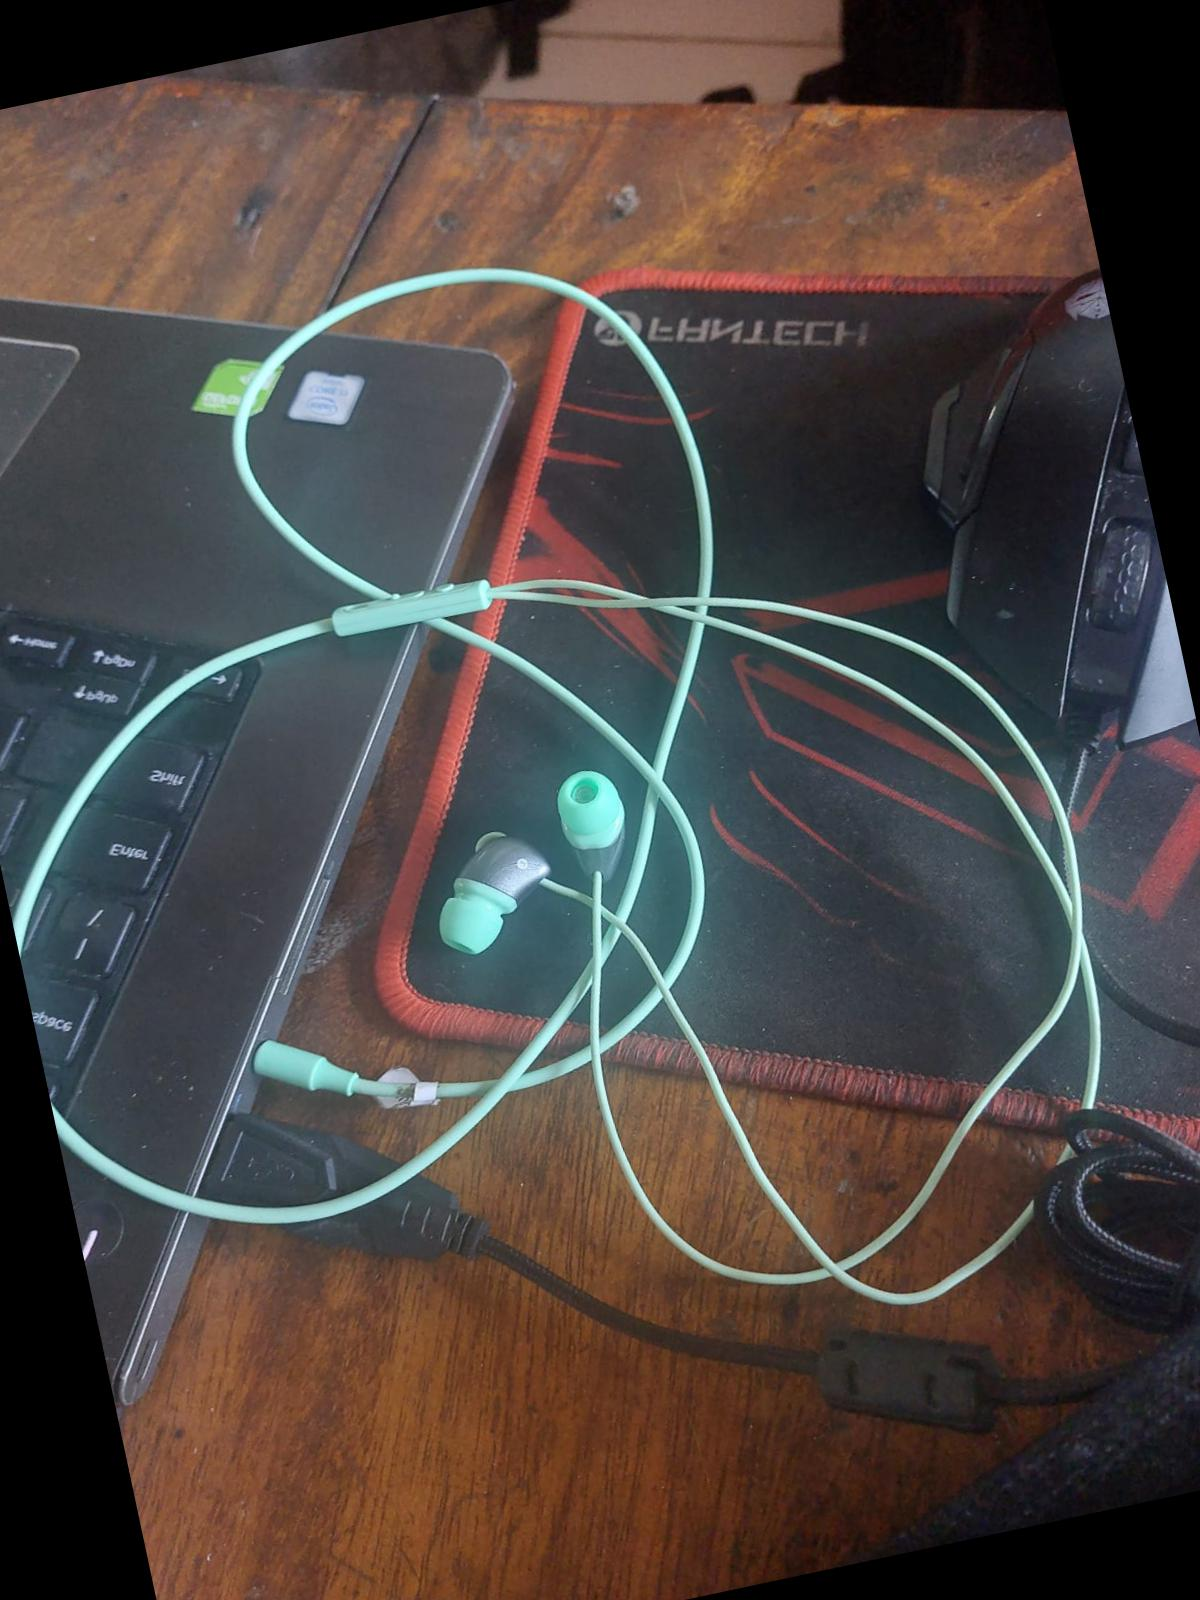Earphone: (401, 795, 576, 980), (524, 734, 684, 906)
